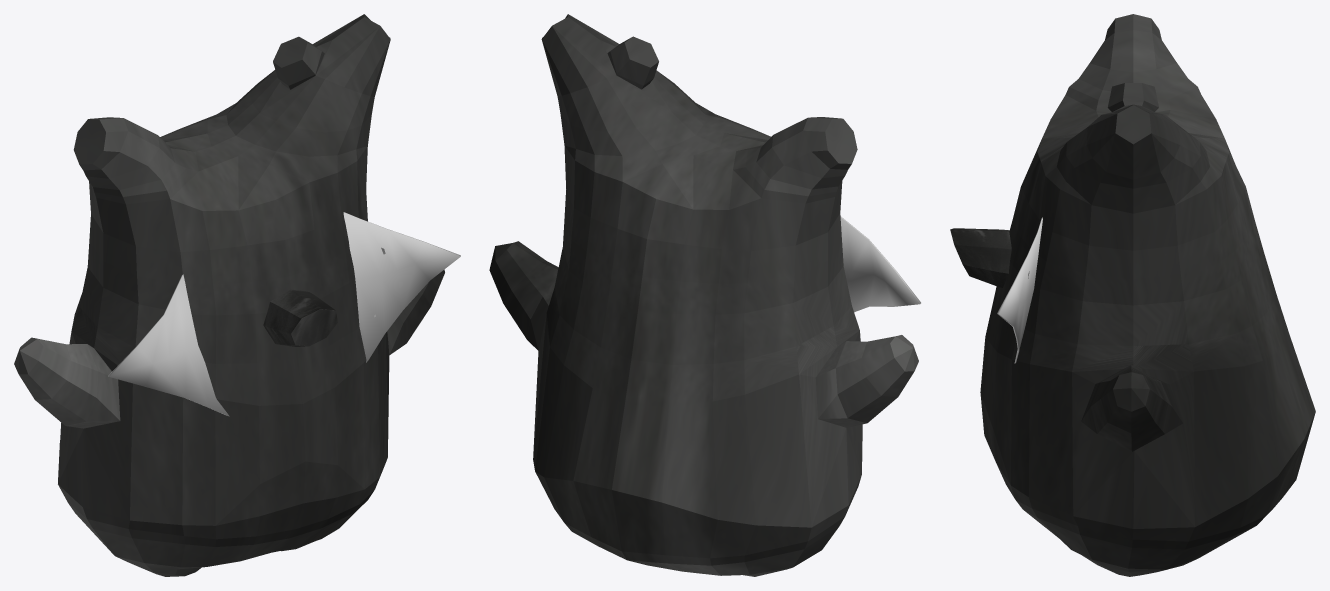
File: frame_0075.obj
The picture shows the model from 3 angles, left to right: view 1: azimuth 30°, elevation 25°; view 2: azimuth 150°, elevation 25°; view 3: azimuth 270°, elevation 25°; orthographic projection.
Visible parts, largest first — view 1: korok, leaf, nose; view 2: korok, leaf; view 3: korok, nose, leaf.
Part boxes in pixels (left/top/right/bottom): korok: left=14, top=14, right=444, bottom=576; leaf: left=108, top=212, right=460, bottom=416; nose: left=263, top=289, right=337, bottom=346; korok: left=489, top=14, right=918, bottom=576; leaf: left=840, top=216, right=920, bottom=312; korok: left=980, top=14, right=1315, bottom=576; nose: left=950, top=228, right=1011, bottom=287; leaf: left=997, top=217, right=1042, bottom=363.
Bounding box in the file's own units: 1.69 × 1.94 × 1.27.
